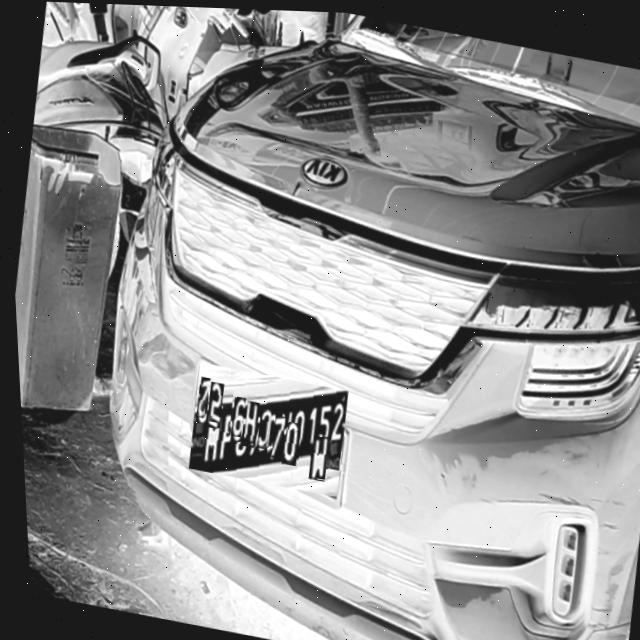0: (276, 419, 298, 463)
1: (213, 387, 231, 432)
2: (190, 375, 207, 418)
5: (201, 380, 221, 423)
7: (265, 413, 283, 458)
9: (225, 395, 244, 436)
C: (251, 407, 269, 448)
H: (237, 399, 257, 442)
IND: (320, 437, 338, 468)
Indian_registered: (184, 389, 344, 472)
M: (303, 433, 328, 479)
P: (290, 427, 311, 473)
